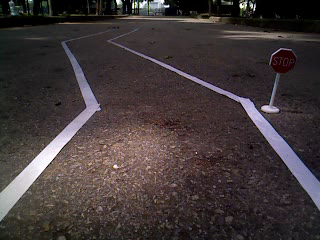Stop: (267, 45, 299, 77)
